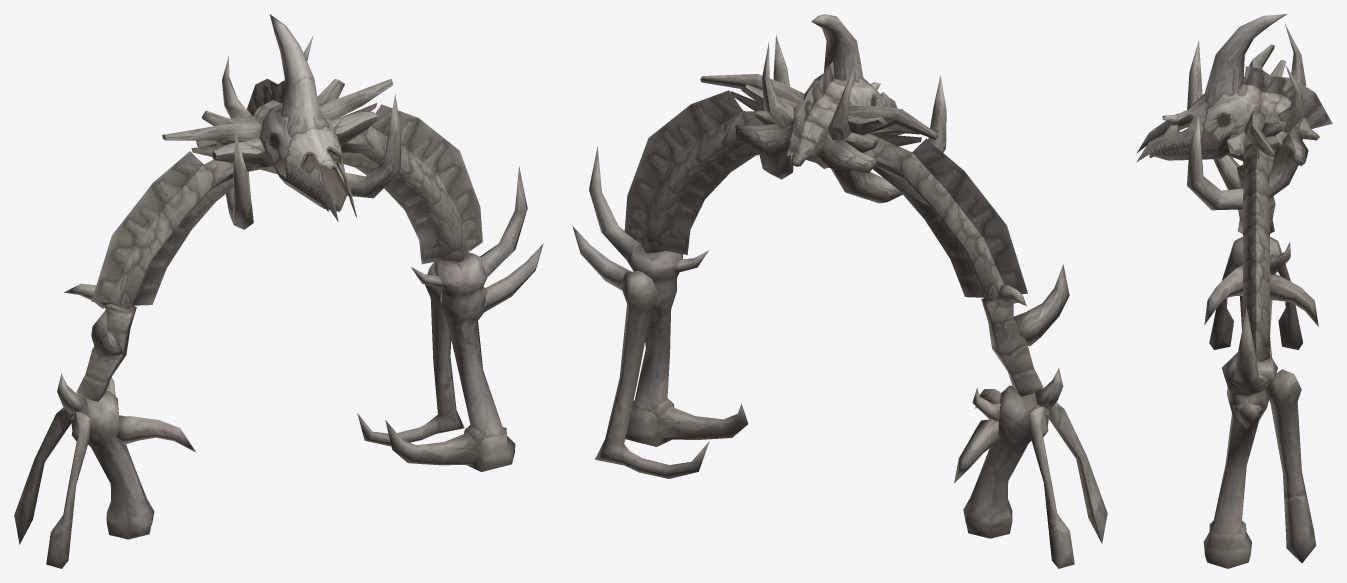
File: stone_17.FBX
3 views of the same model, side by side, from view 1: azimuth 30°, elevation 25°; view 2: azimuth 150°, elevation 25°; view 3: azimuth 270°, elevation 25° (orthographic). The views are drawn at different scales.
Parts seen in each view (by area): view 1: stone_17; view 2: stone_17; view 3: stone_17.
Part boxes in pixels (left/top/right/bottom): stone_17: left=14, top=14, right=543, bottom=568; stone_17: left=572, top=14, right=1107, bottom=568; stone_17: left=1136, top=14, right=1332, bottom=568.
Size of the model in its own units: 733 by 652 by 255.
